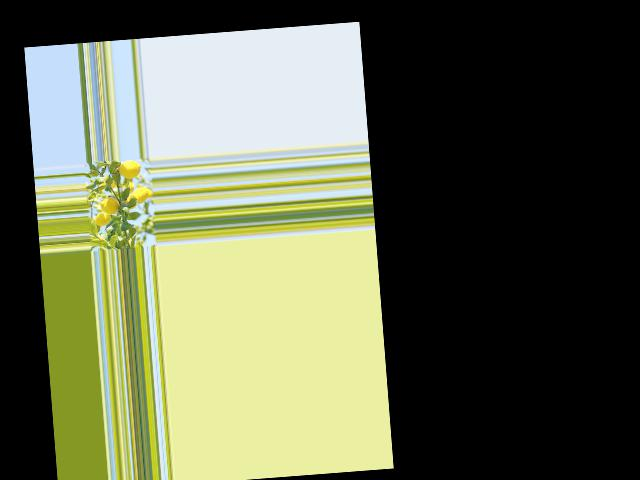lemon: (115, 158, 144, 181)
